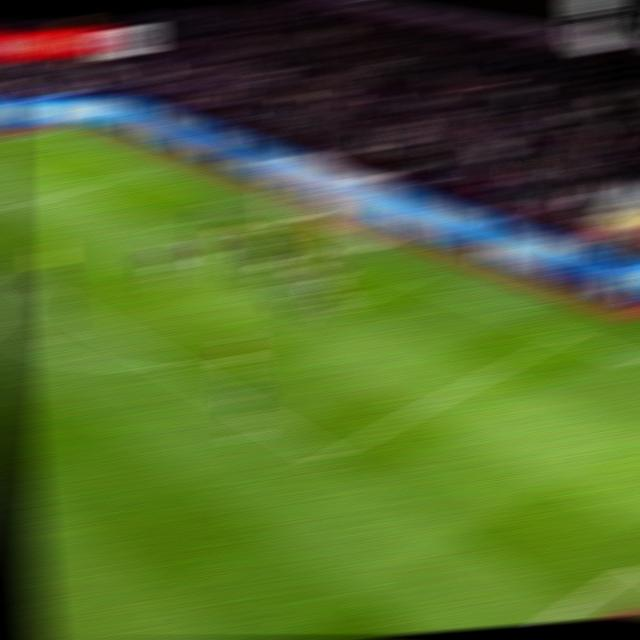bigarea_bottom_inner: (309, 442, 347, 471)
bigarea_bottom_outter: (549, 327, 579, 341)
bigarea_top_outter: (127, 164, 155, 176)
bottom_arc_area_intersection: (154, 357, 186, 375)
corner: (32, 129, 61, 136)
smallarea_bottom_inner: (332, 295, 364, 314)
smallarea_bottom_outter: (398, 268, 432, 285)
smallarea_top_inner: (153, 220, 182, 234)
smallarea_top_outter: (215, 199, 245, 209)
top_arc_area_intersection: (12, 278, 41, 290)
